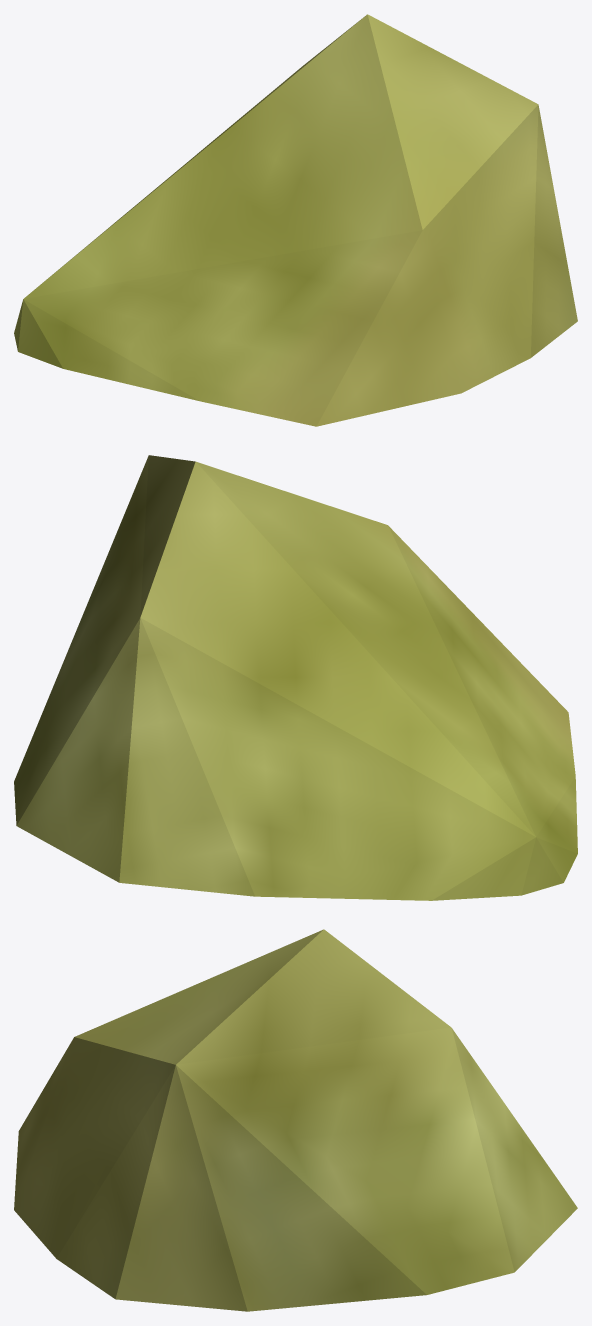
The picture shows the model from 3 angles, top to bottom: view 1: azimuth 30°, elevation 25°; view 2: azimuth 150°, elevation 25°; view 3: azimuth 270°, elevation 25°; orthographic projection. The views are drawn at different scales.
Size of the model in its own units: 0.3892 by 0.211 by 0.3541.
1 material, 1 textured.
